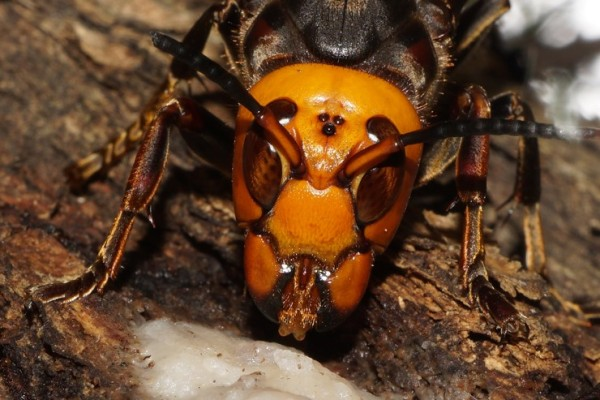asian_giant_hornet: (145, 1, 543, 325)
